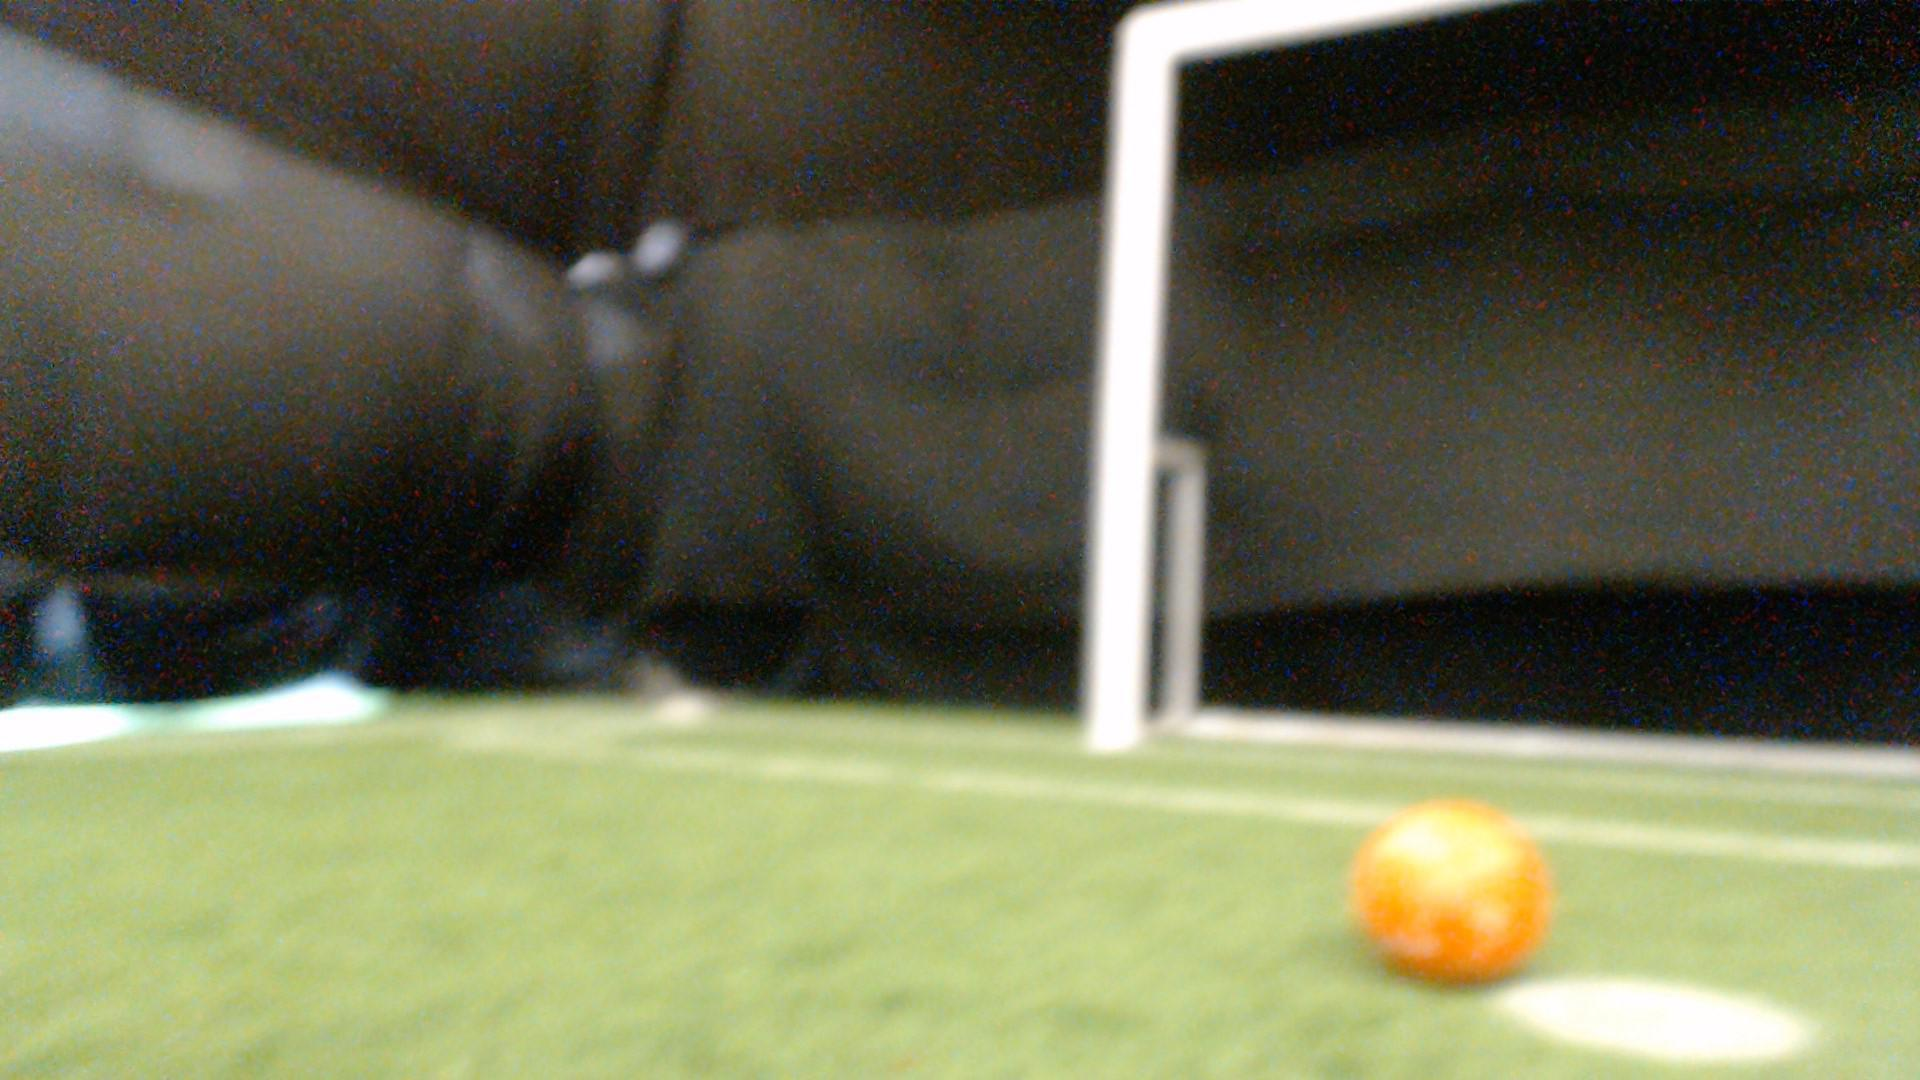bola: (1325, 778, 1586, 1013)
